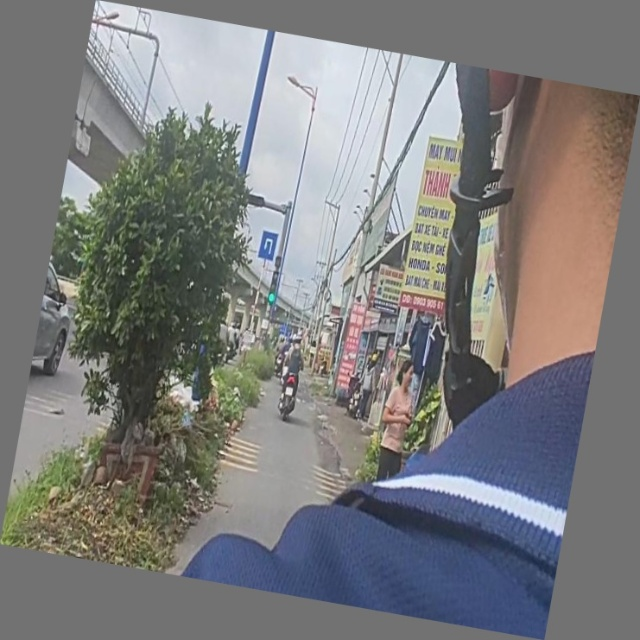I.409: (257, 228, 281, 265)
